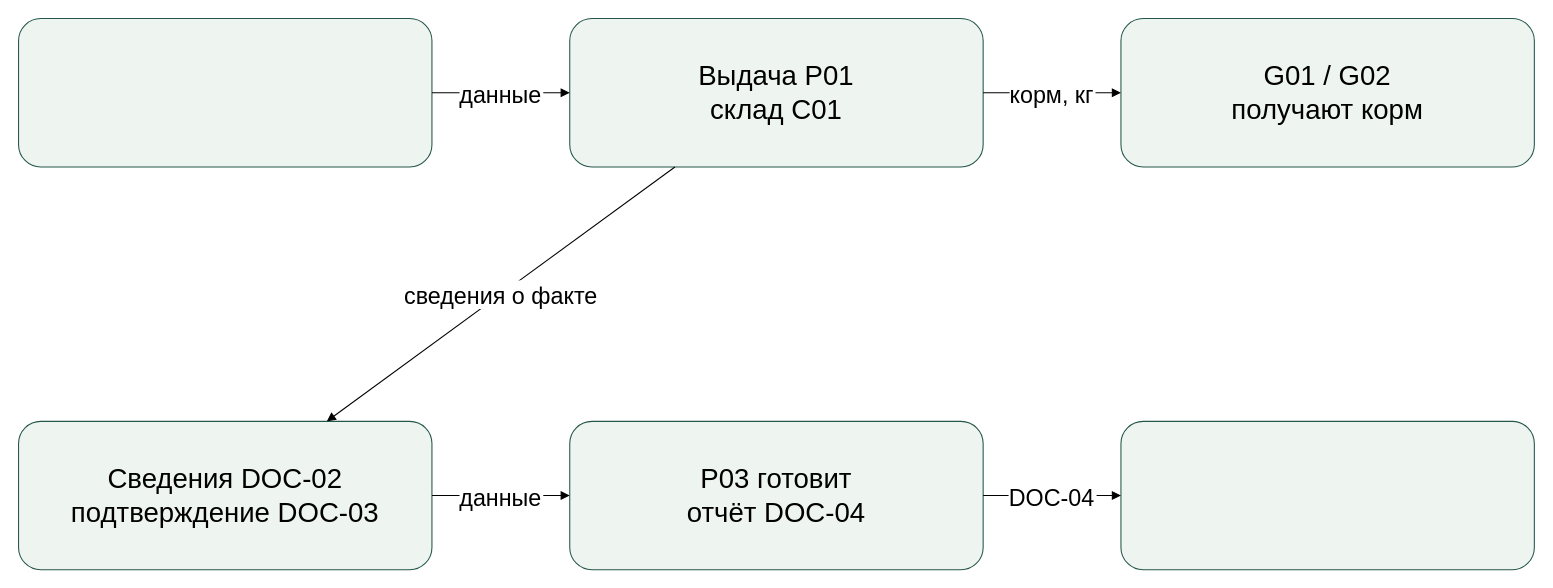
This 1553x588 diagram has some shape labels left out. The shapes that lost their labels are listed below. From the top down, each one's centre as x and y in pixels, then its label:
At (224,92): "Потребность Р02 DOC-01".
At (1327,495): "Директор Р04 получает итог".
